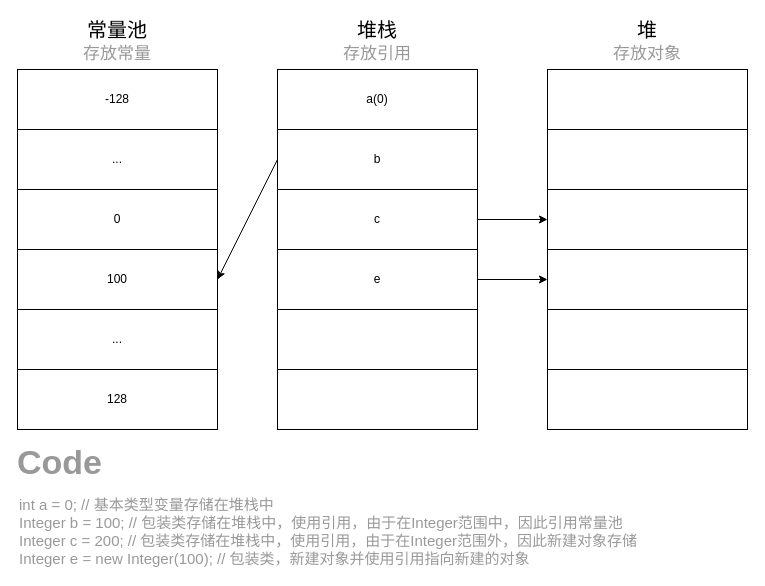
This 765x586 diagram has some shape labels left out. Each missing label, with the box of its shape:
(new c)200: (546, 188, 748, 250)
(new e)100: (546, 248, 748, 310)
